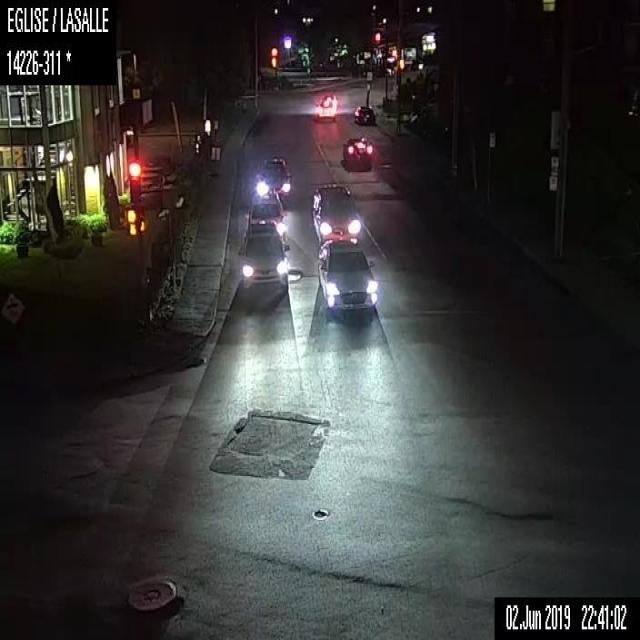vehicle: (316, 235, 379, 309), (310, 182, 365, 245), (239, 226, 289, 292), (243, 189, 287, 236), (253, 155, 293, 202), (342, 135, 374, 164), (312, 91, 334, 117), (354, 104, 376, 124)
